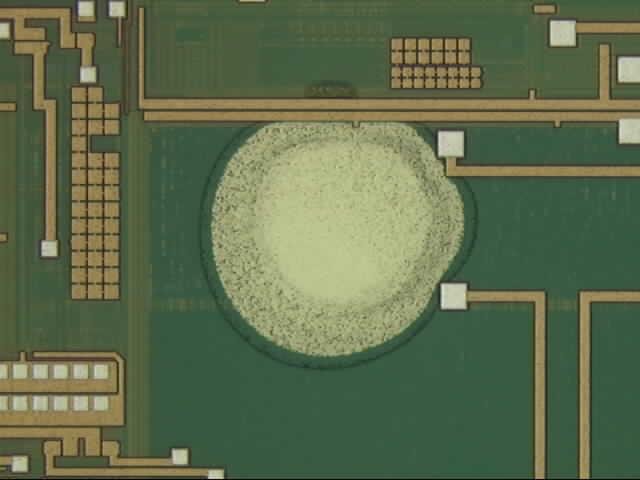BLOCK ETCH: (195, 78, 485, 378)
